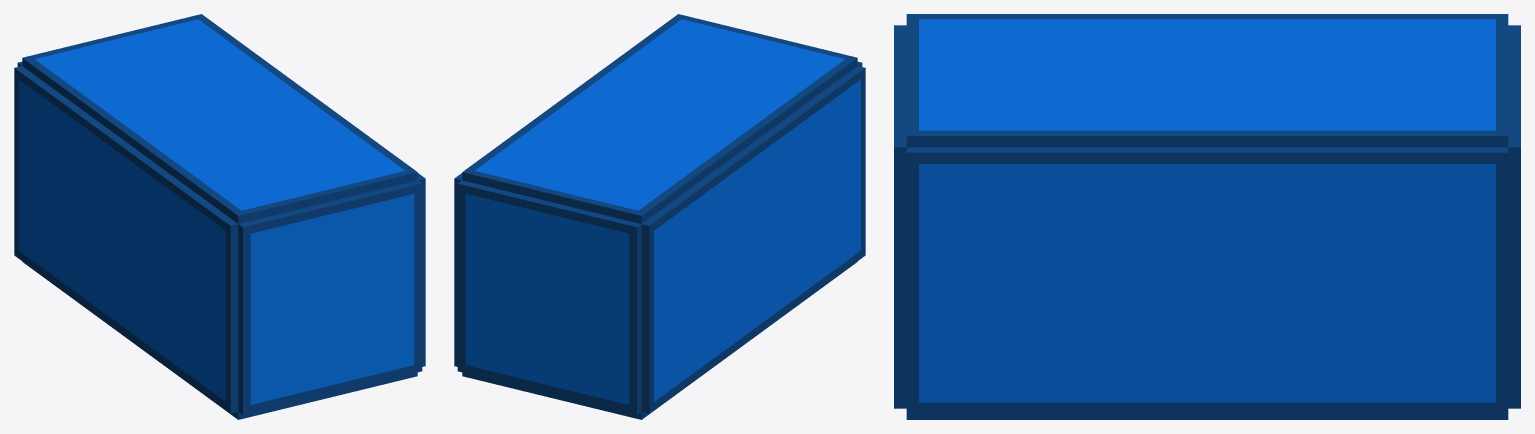
The model's file is blue.obj.
3 views of the same model, side by side, from view 1: azimuth 30°, elevation 25°; view 2: azimuth 150°, elevation 25°; view 3: azimuth 270°, elevation 25° (orthographic). The views are drawn at different scales.
Parts seen in each view (by area): view 1: blue; view 2: blue; view 3: blue.
Part boxes in pixels (bbox=[...]): blue: bbox=[14, 14, 425, 419]; blue: bbox=[454, 14, 865, 419]; blue: bbox=[894, 14, 1520, 419].
Size of the model in its own units: 25 by 25 by 50.
Materials: 1 (1 with a texture image).
